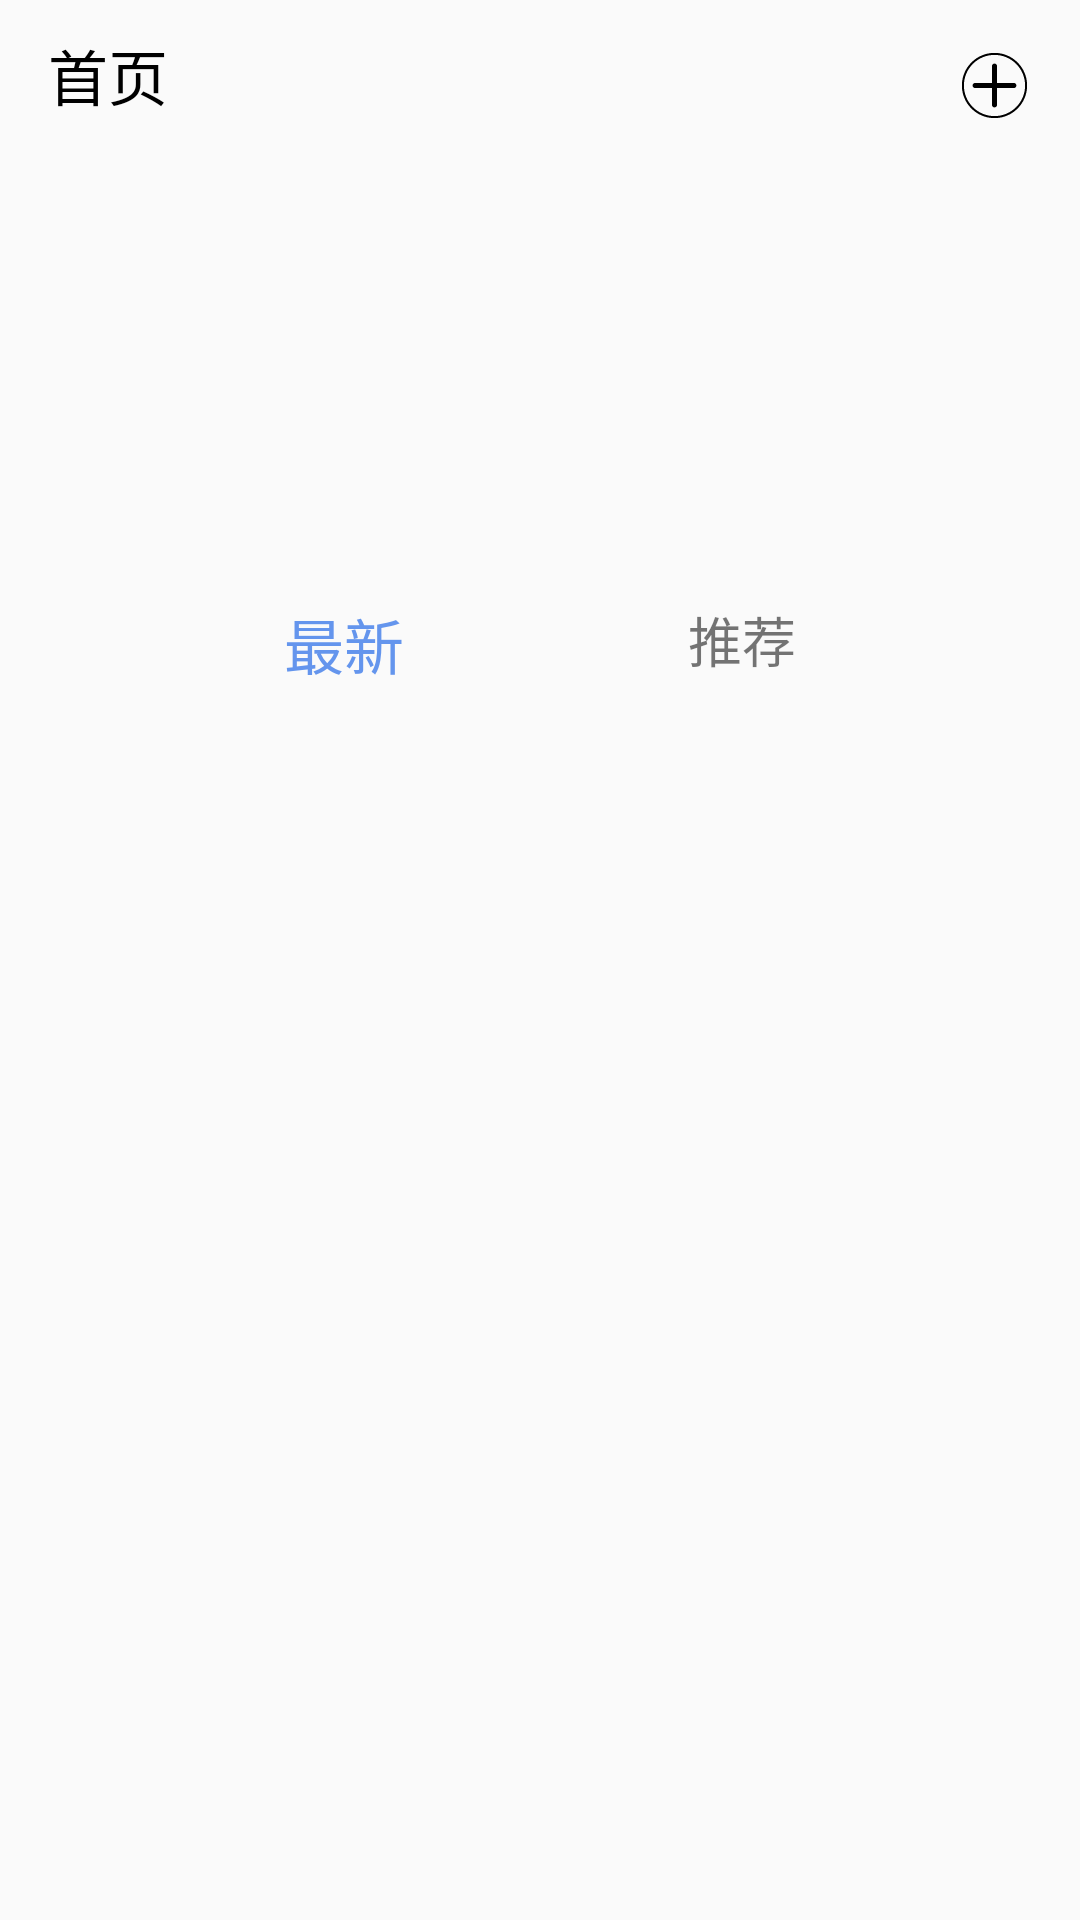

Icons on this 1080w x 1920h Android screen, each with the point to tap as (x=x, y=y):
message add friend: (x=994, y=85)
